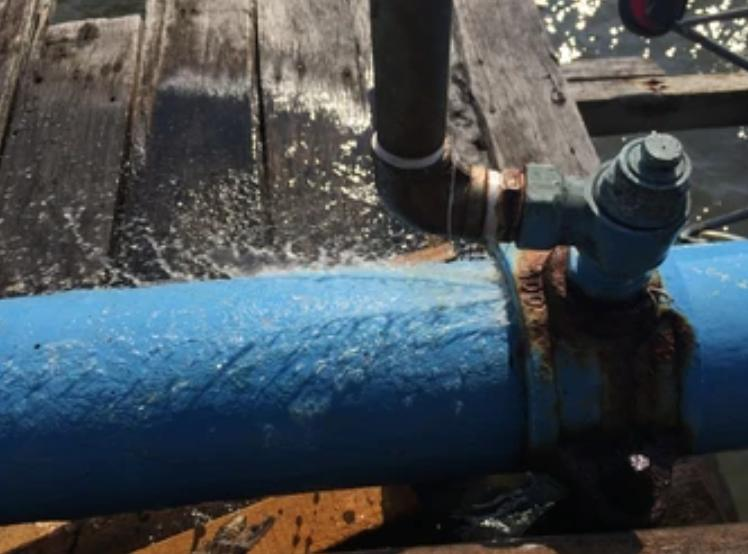pipe burst: (48, 239, 536, 371)
water accumulation: (0, 68, 439, 300)
